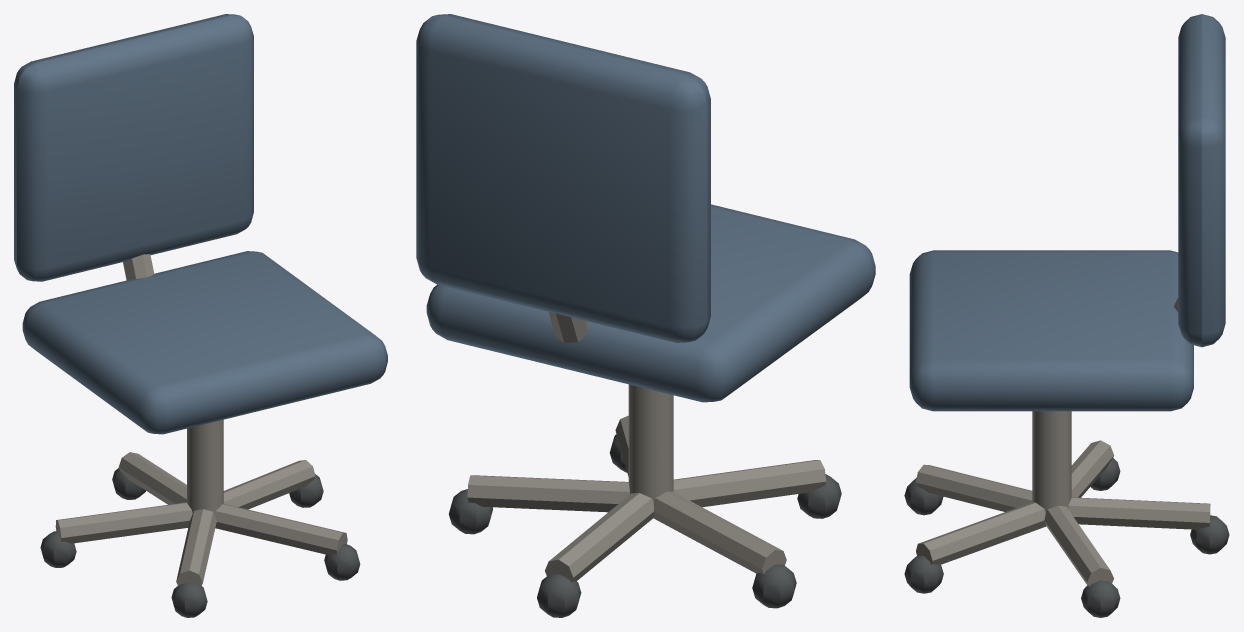
The model's file is office_chair.glb.
3 views of the same model, side by side, from view 1: azimuth 30°, elevation 25°; view 2: azimuth 150°, elevation 25°; view 3: azimuth 270°, elevation 25° (orthographic). The views are drawn at different scales.
Parts seen in each view (by area): view 1: vinyl, steel_dark, rubber; view 2: vinyl, steel_dark, rubber; view 3: vinyl, steel_dark, rubber.
Boxes of the visible parts, x1,y1,x2,y2 form: vinyl: (14,14,387,434); steel_dark: (55,254,347,586); rubber: (40,468,360,617); vinyl: (416,14,875,402); steel_dark: (467,312,826,582); rubber: (449,434,841,617); vinyl: (909,14,1225,411); steel_dark: (916,297,1210,586); rubber: (904,458,1229,617).
Bounding box in the file's own units: 0.4304 × 0.68 × 0.4118.
